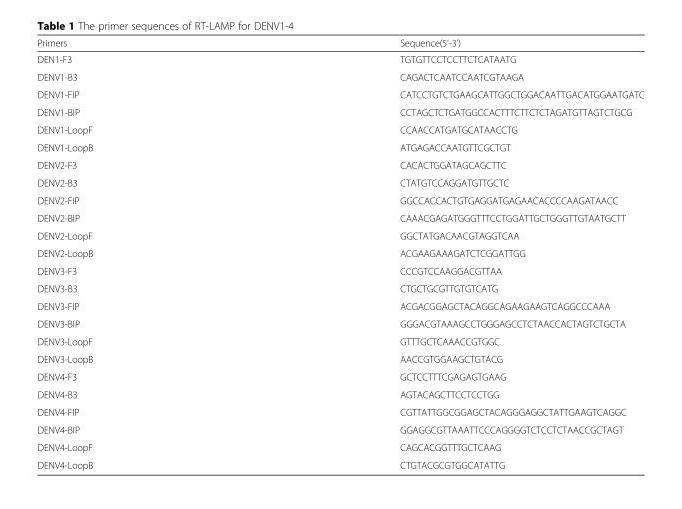table: (36, 36, 643, 470)
table column: (245, 36, 643, 470), (36, 36, 245, 470)
table column header: (36, 36, 643, 50)
table row: (36, 67, 643, 85), (36, 85, 643, 103), (36, 120, 643, 138), (36, 155, 643, 173), (36, 173, 643, 191), (36, 208, 643, 226), (36, 226, 643, 244), (36, 261, 643, 279), (36, 279, 643, 297), (36, 314, 643, 332), (36, 349, 643, 367), (36, 367, 643, 385), (36, 402, 643, 420), (36, 420, 643, 438), (36, 50, 643, 67), (36, 103, 643, 120), (36, 138, 643, 155), (36, 191, 643, 208), (36, 244, 643, 261), (36, 297, 643, 314), (36, 332, 643, 349), (36, 385, 643, 402), (36, 438, 643, 455), (36, 455, 643, 470), (36, 36, 643, 50)
